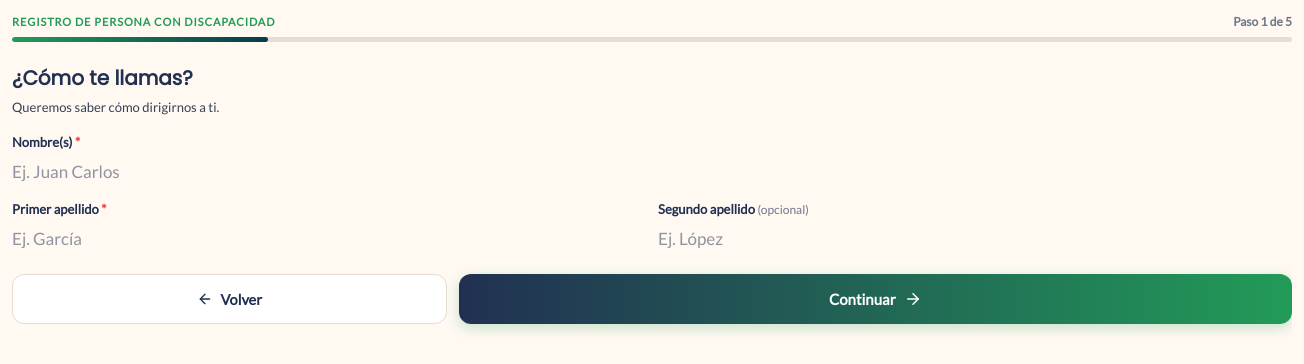
Test case: Validación de fecha de nacimiento en wizards de registro › rechaza fecha de nacimiento futura en RegistrationWizard
This screenshot has width=1304, height=364.
Type "Ana" into the field with placeholder "Ej. Juan Carlos" at {"x": 108, "y": 172}, box [12, 158, 204, 185]
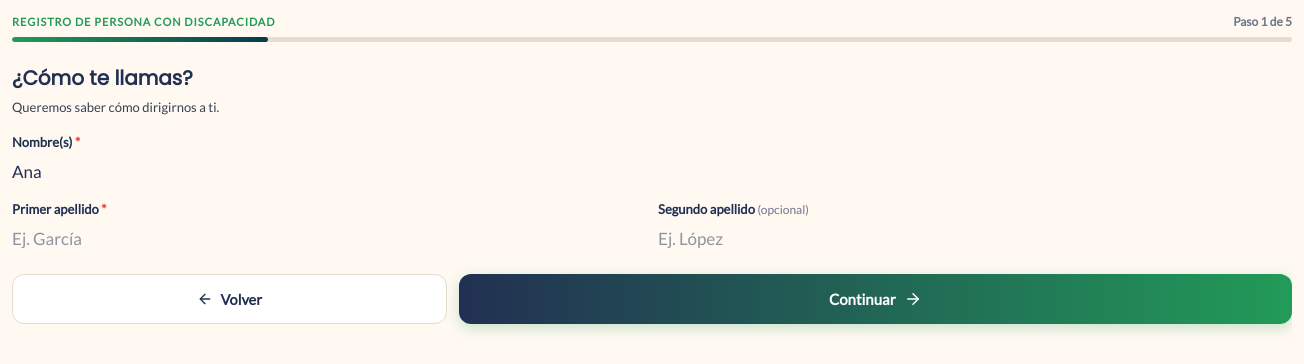
Type "Pérez" into the field with placeholder "Ej. García" at {"x": 108, "y": 239}, box [12, 225, 204, 252]
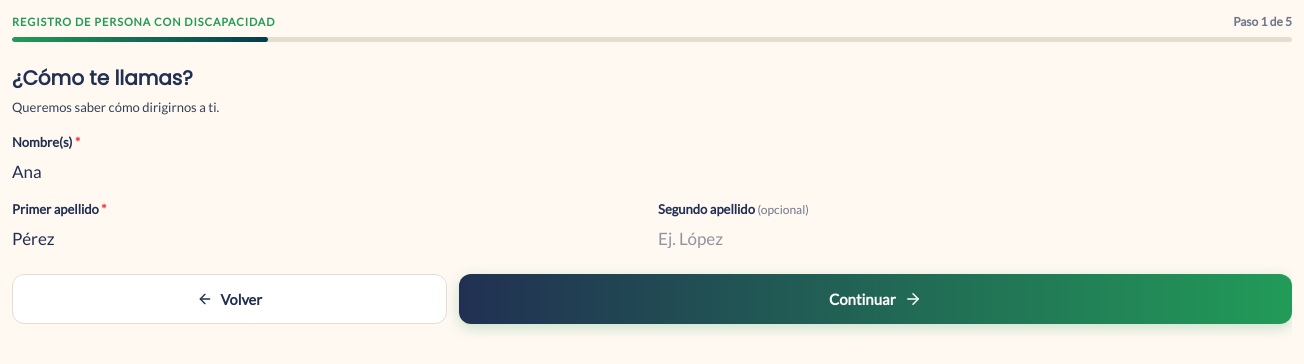
Type "Gómez" into the field with placeholder "Ej. López" at {"x": 754, "y": 239}, box [658, 225, 850, 252]
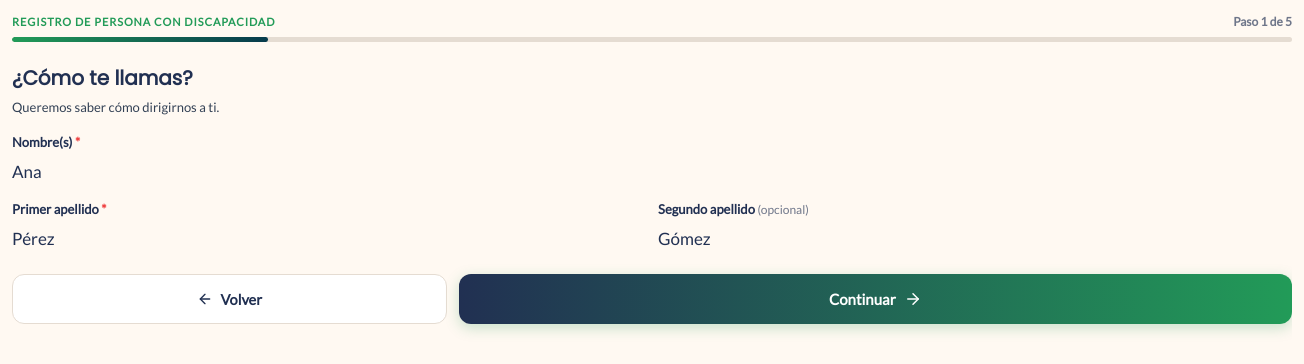
Click the button "Continuar" at {"x": 875, "y": 299}, box [459, 274, 1292, 324]
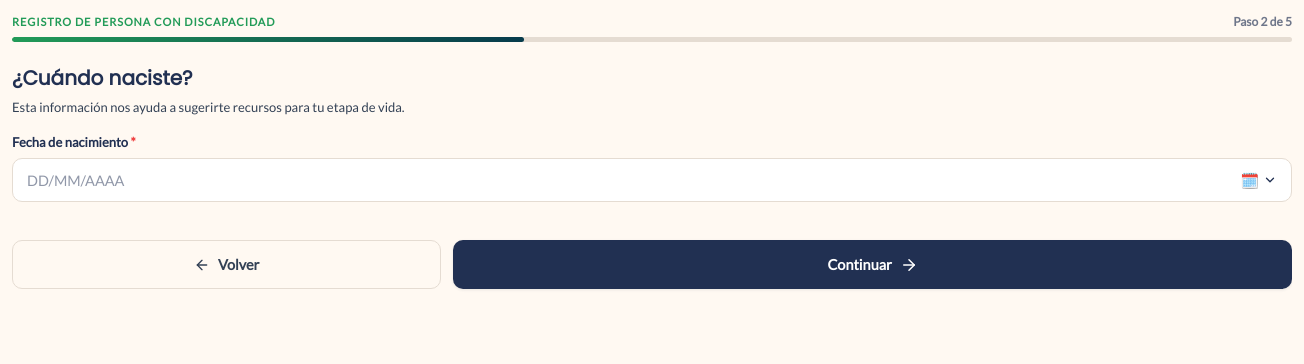
Type "2028-06-28" into the date field labelled "🗓️" at {"x": 652, "y": 180}, box [12, 158, 1292, 202]
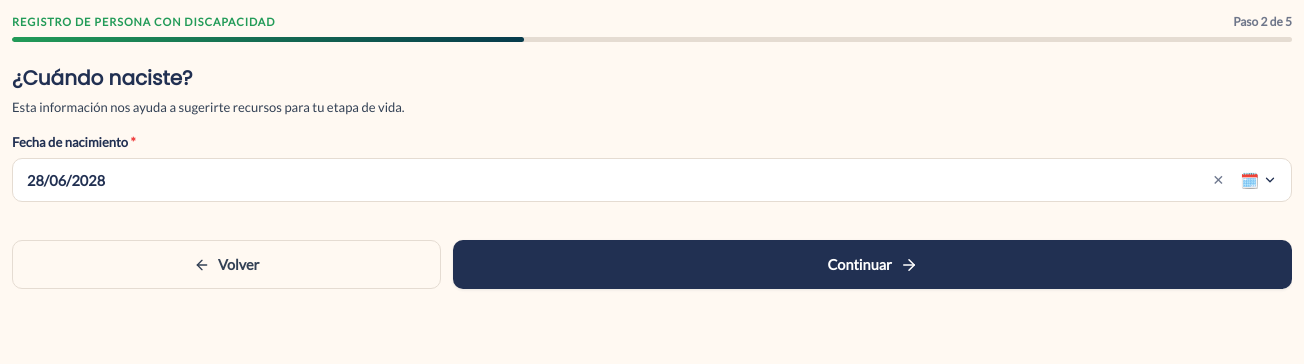
Submit the form
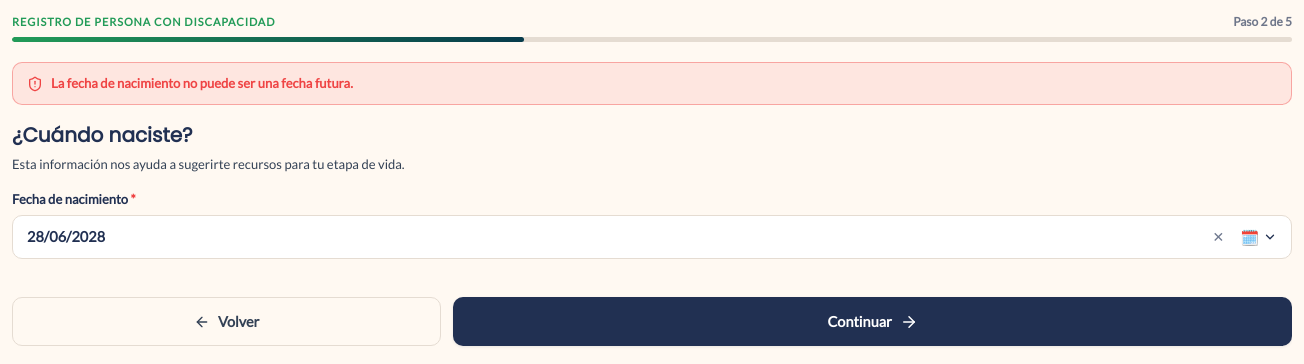
expect the text "La fecha de nacimiento no puede ser una fecha futura." is shown: met, box [12, 62, 1292, 105]
